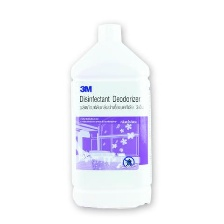cleaning_solution: (65, 20, 157, 211)
